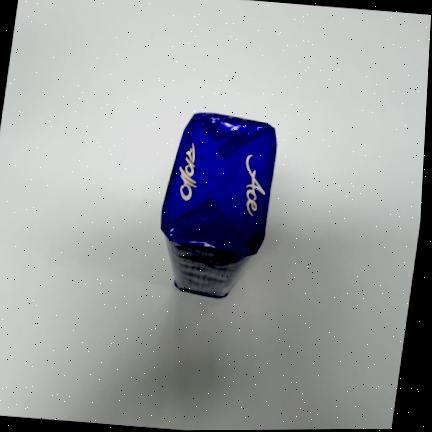cracker_ace: (159, 113, 276, 299)
